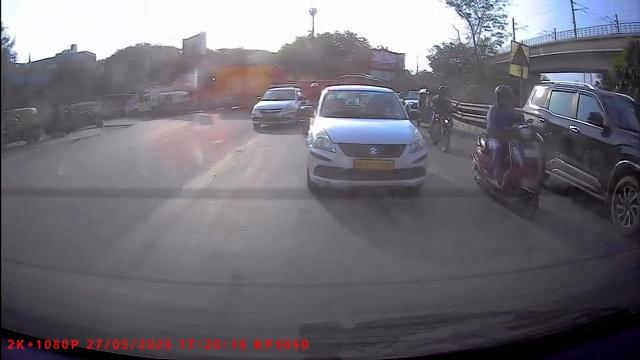motorcycle_with_helmet: (470, 81, 550, 224)
